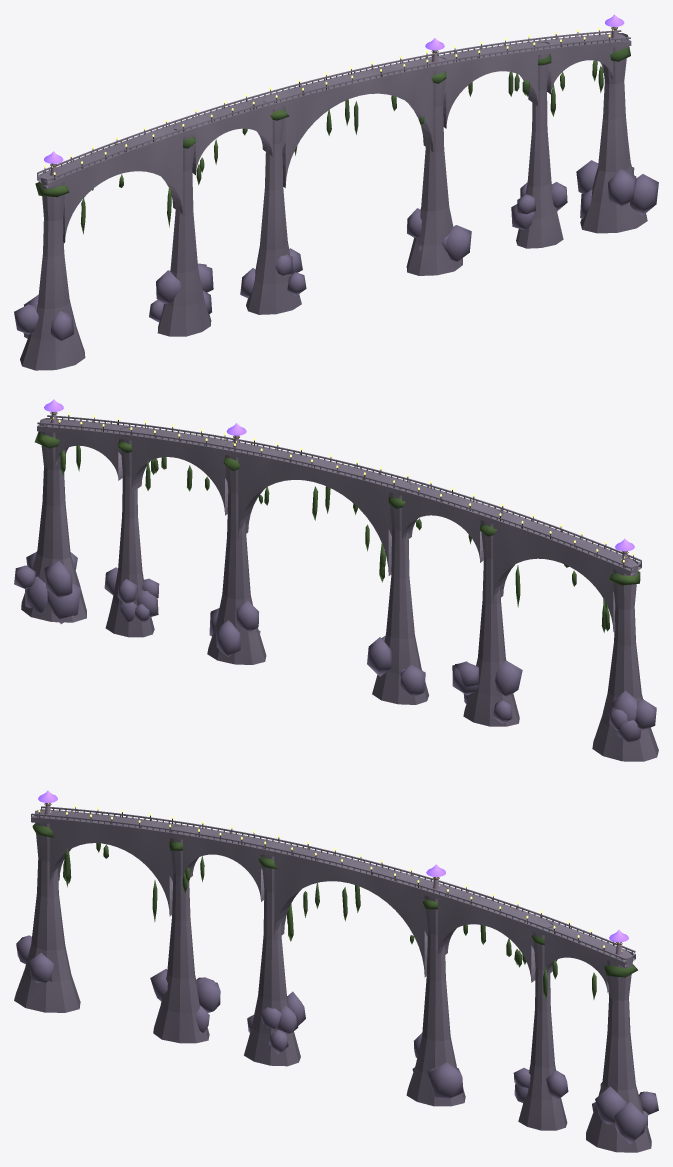
File: viaduct.glb
3 views of the same model, one above another, from view 1: azimuth 30°, elevation 25°; view 2: azimuth 150°, elevation 25°; view 3: azimuth 330°, elevation 25° (orthographic).
Parts seen in each view (by area): view 1: hero_valley_stone, hero_valley_rock, hero_valley_moss; view 2: hero_valley_stone, hero_valley_rock, hero_valley_moss; view 3: hero_valley_stone, hero_valley_rock, hero_valley_moss.
Boxes of the visible parts, bbox=[...] form: hero_valley_stone: bbox=[20, 30, 647, 370]; hero_valley_rock: bbox=[14, 160, 658, 341]; hero_valley_moss: bbox=[35, 46, 630, 234]; hero_valley_stone: bbox=[21, 415, 658, 761]; hero_valley_rock: bbox=[14, 551, 656, 743]; hero_valley_moss: bbox=[34, 431, 640, 632]; hero_valley_stone: bbox=[14, 806, 651, 1152]; hero_valley_rock: bbox=[16, 935, 658, 1144]; hero_valley_moss: bbox=[32, 823, 637, 1000].
Size of the model in its own units: 337 by 120 by 27.55.
